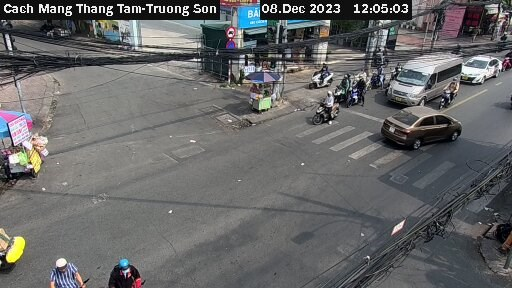car: (388, 54, 466, 106), (380, 105, 467, 149), (462, 52, 504, 84)
motorbike: (313, 96, 345, 128), (308, 61, 337, 89), (438, 80, 464, 104)
